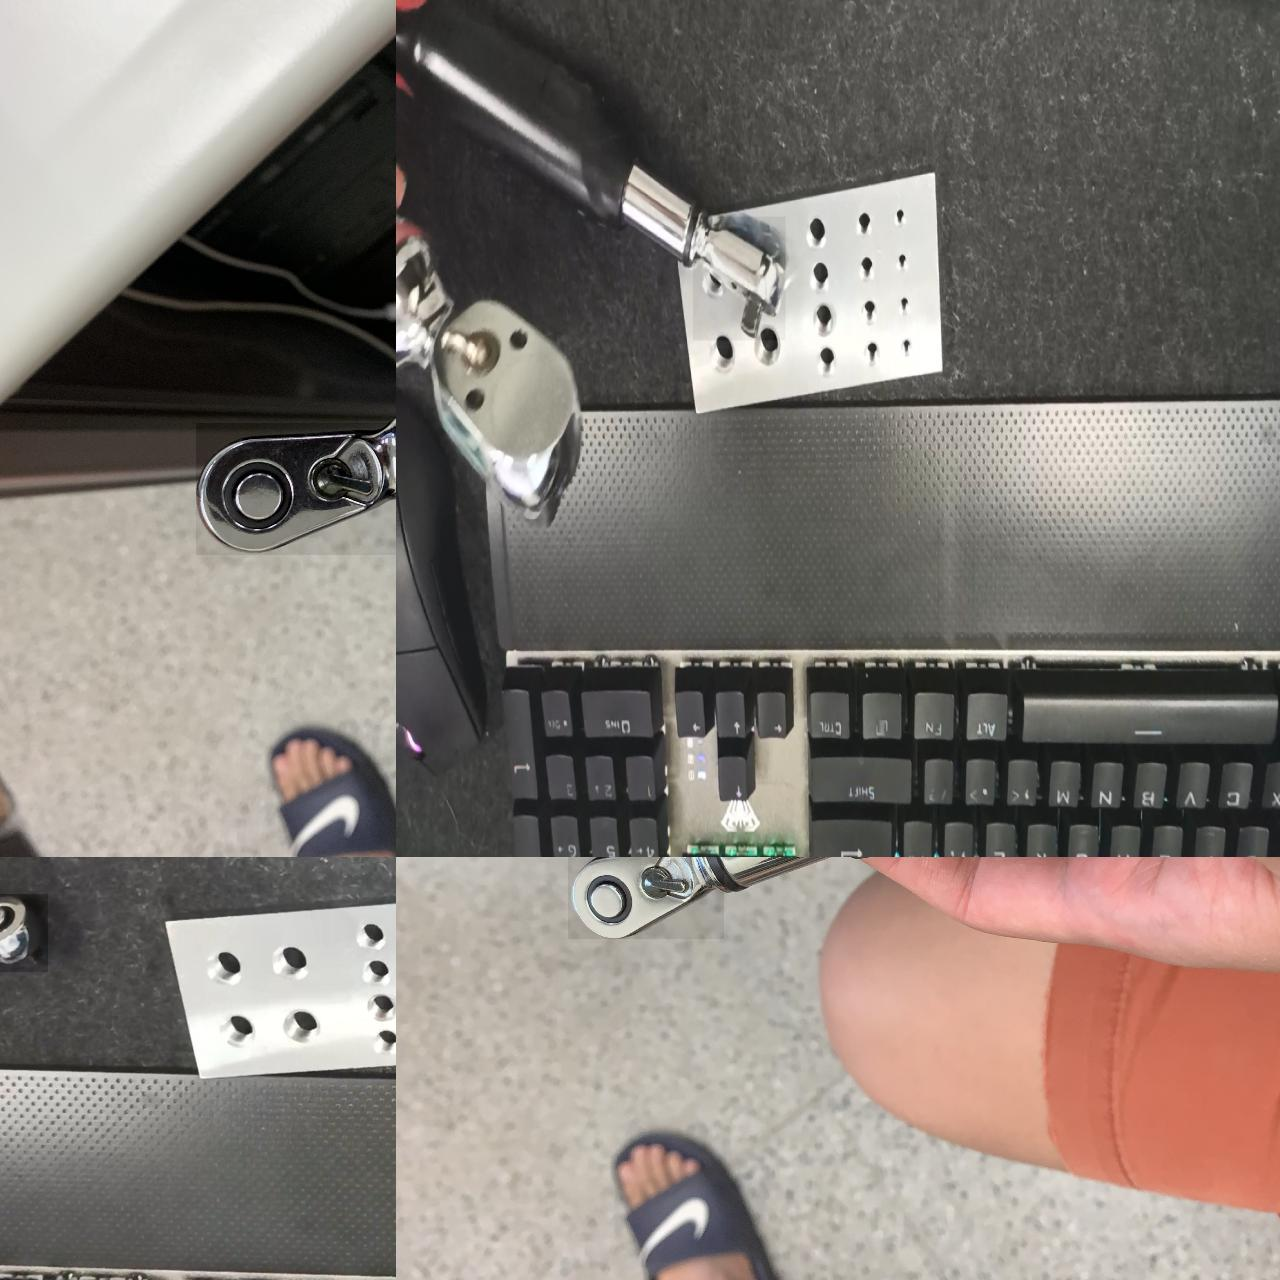Tool: (396, 241, 583, 508), (196, 423, 396, 554), (568, 857, 724, 939), (693, 217, 785, 340), (0, 894, 48, 972)
hole: (274, 1002, 321, 1048), (260, 939, 308, 983), (211, 1007, 257, 1053), (198, 944, 241, 987), (349, 915, 392, 958), (703, 331, 743, 374), (747, 322, 785, 362), (358, 955, 395, 990), (361, 993, 397, 1027), (366, 1024, 399, 1058), (810, 301, 842, 333), (802, 216, 832, 247), (804, 257, 836, 287), (813, 339, 843, 368), (699, 267, 728, 295), (856, 206, 880, 230), (857, 254, 880, 278), (864, 336, 887, 359), (862, 298, 884, 320), (898, 333, 919, 353), (893, 203, 913, 223), (894, 248, 914, 267), (897, 290, 915, 308)
